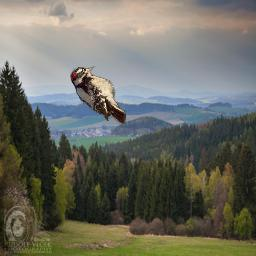Woodpecker: (70, 66, 126, 124)
